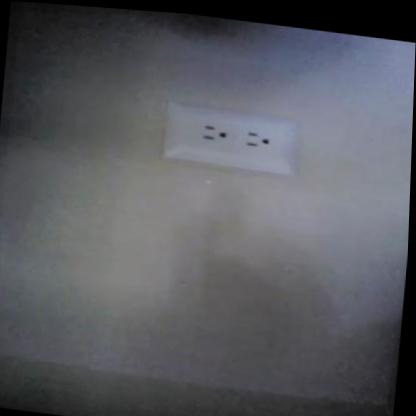OUTLET: (161, 98, 302, 176)
